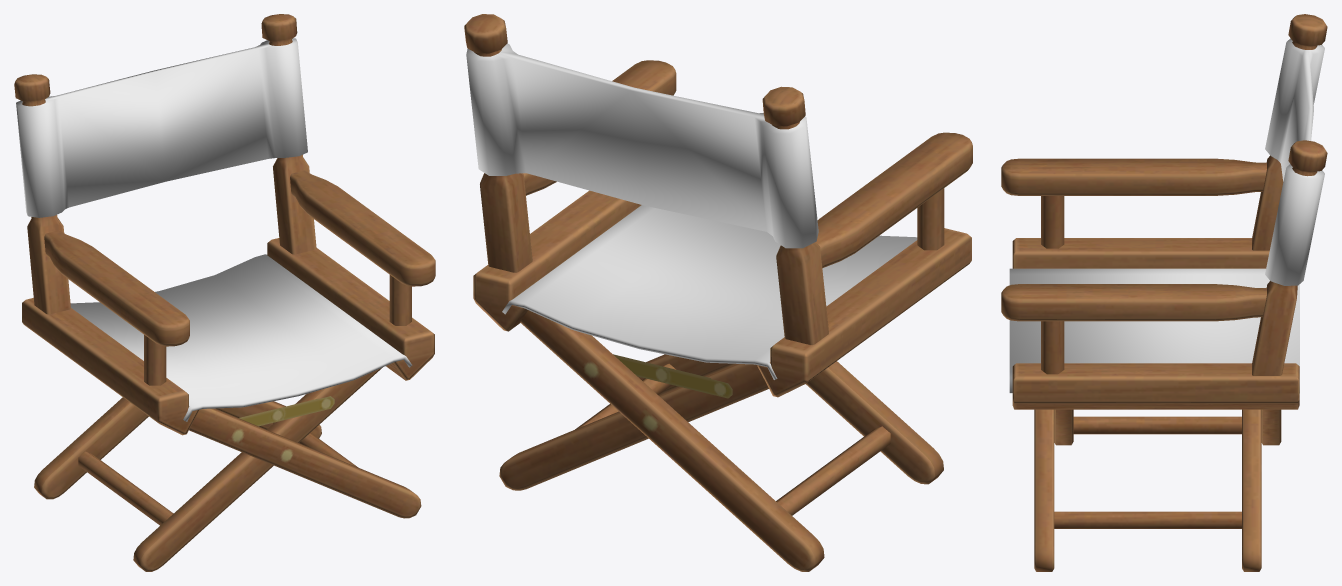
The model's file is DirecyorChair.glb.
3 renders of one model, left to right at view 1: azimuth 30°, elevation 25°; view 2: azimuth 150°, elevation 25°; view 3: azimuth 270°, elevation 25°, orthographic. The views are drawn at different scales.
Visible parts, largest first — view 1: ChairBack01_low__mReBody, cloth1_low__mReFabric; view 2: ChairBack01_low__mReBody, cloth1_low__mReFabric; view 3: ChairBack01_low__mReBody, cloth1_low__mReFabric.
Part boxes in pixels (x1=…): ChairBack01_low__mReBody: x1=14, y1=14, x2=435, y2=571; cloth1_low__mReFabric: x1=16, y1=38, x2=412, y2=421; ChairBack01_low__mReBody: x1=464, y1=14, x2=972, y2=571; cloth1_low__mReFabric: x1=466, y1=43, x2=917, y2=379; ChairBack01_low__mReBody: x1=1001, y1=14, x2=1327, y2=571; cloth1_low__mReFabric: x1=1009, y1=38, x2=1324, y2=393.
Bounding box in the file's own units: 0.7743 × 1.08 × 0.7499.
Materials: 2 (1 with a texture image).
